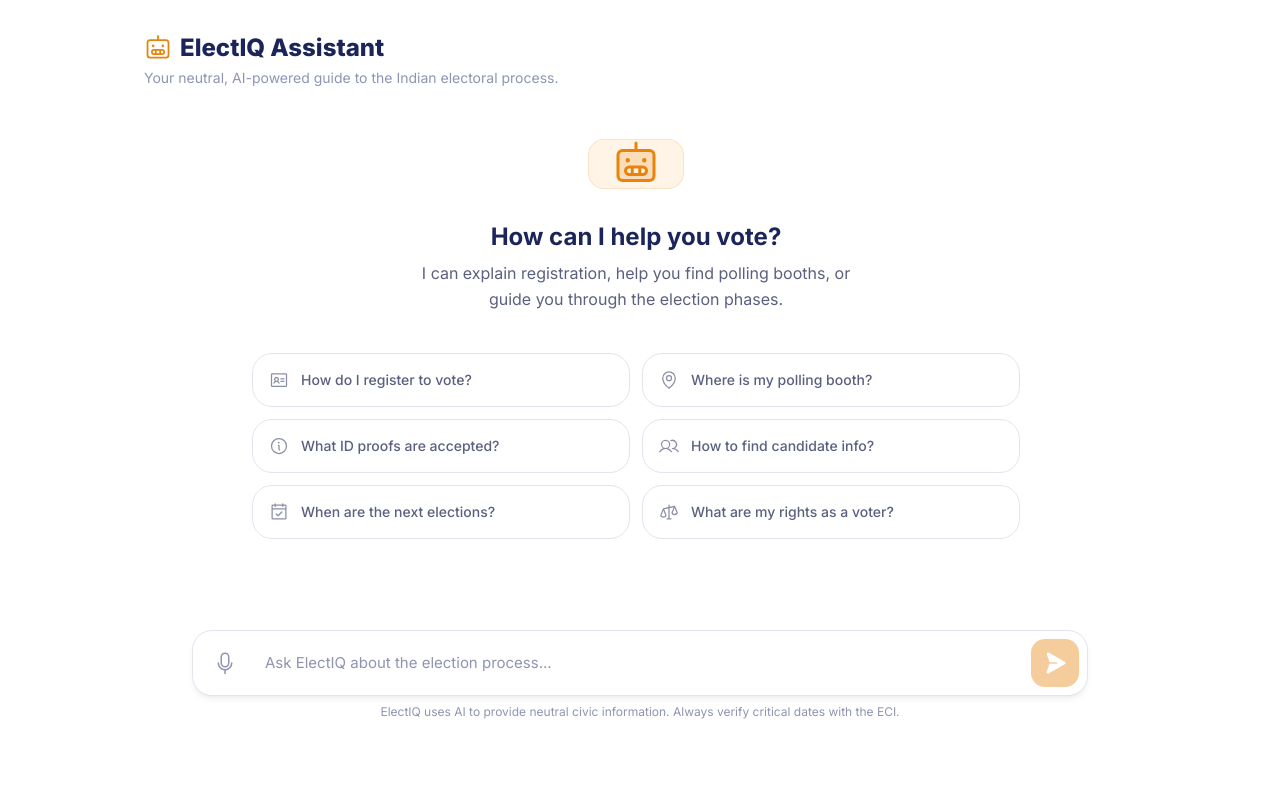
it: ChatInterface › displays user message after sending
Type "What ID do I need?" into the text box. click: (640, 663)
box: [257, 639, 1023, 687]
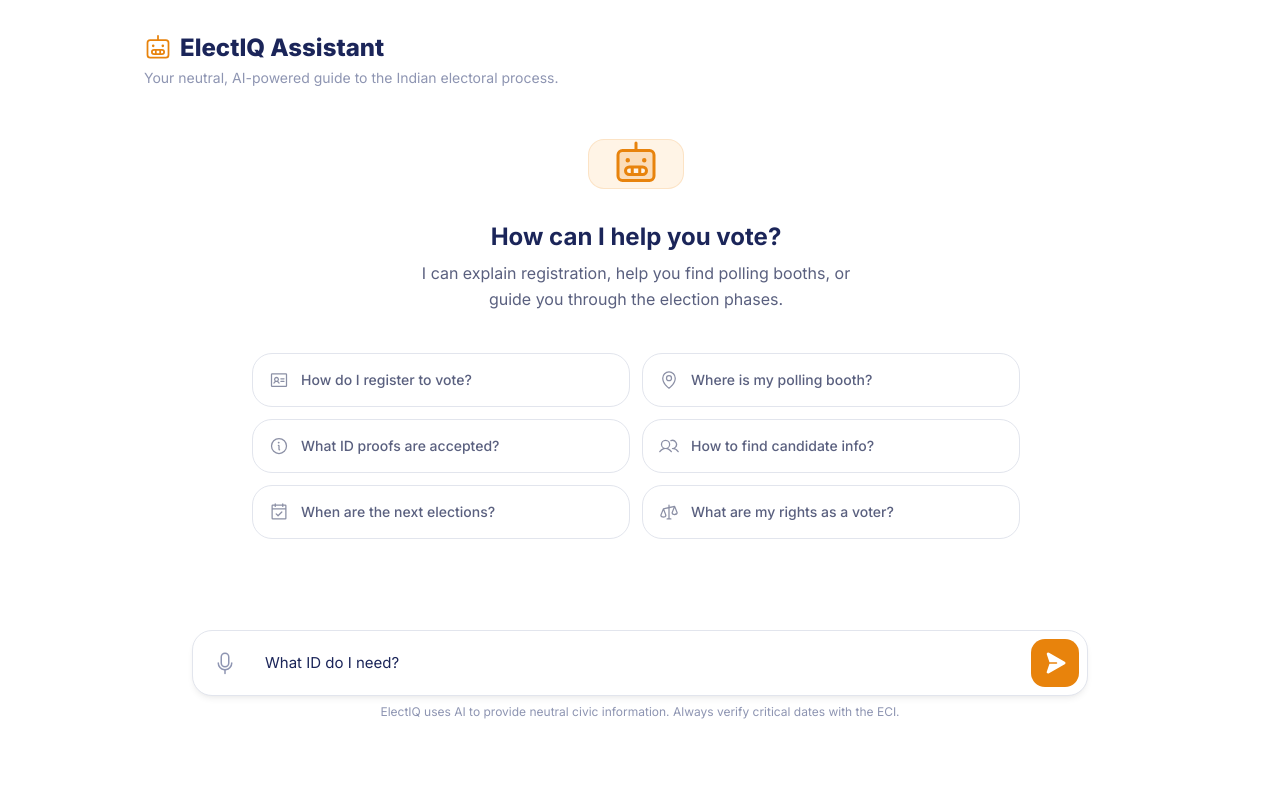
Click the button named "Send message". click: click(1055, 663)
box: [1031, 639, 1079, 687]
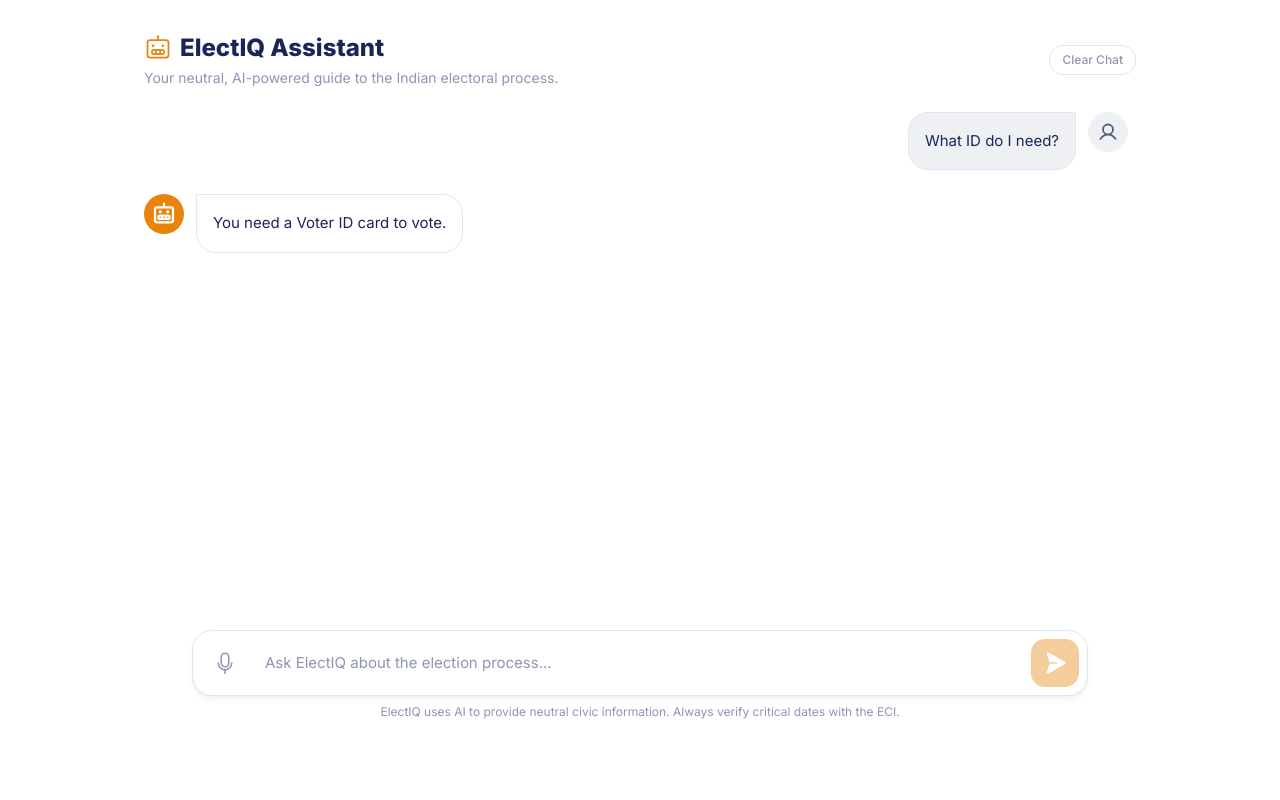
Expected: the text "What ID do I need?" is shown, [925, 129, 1059, 153]
